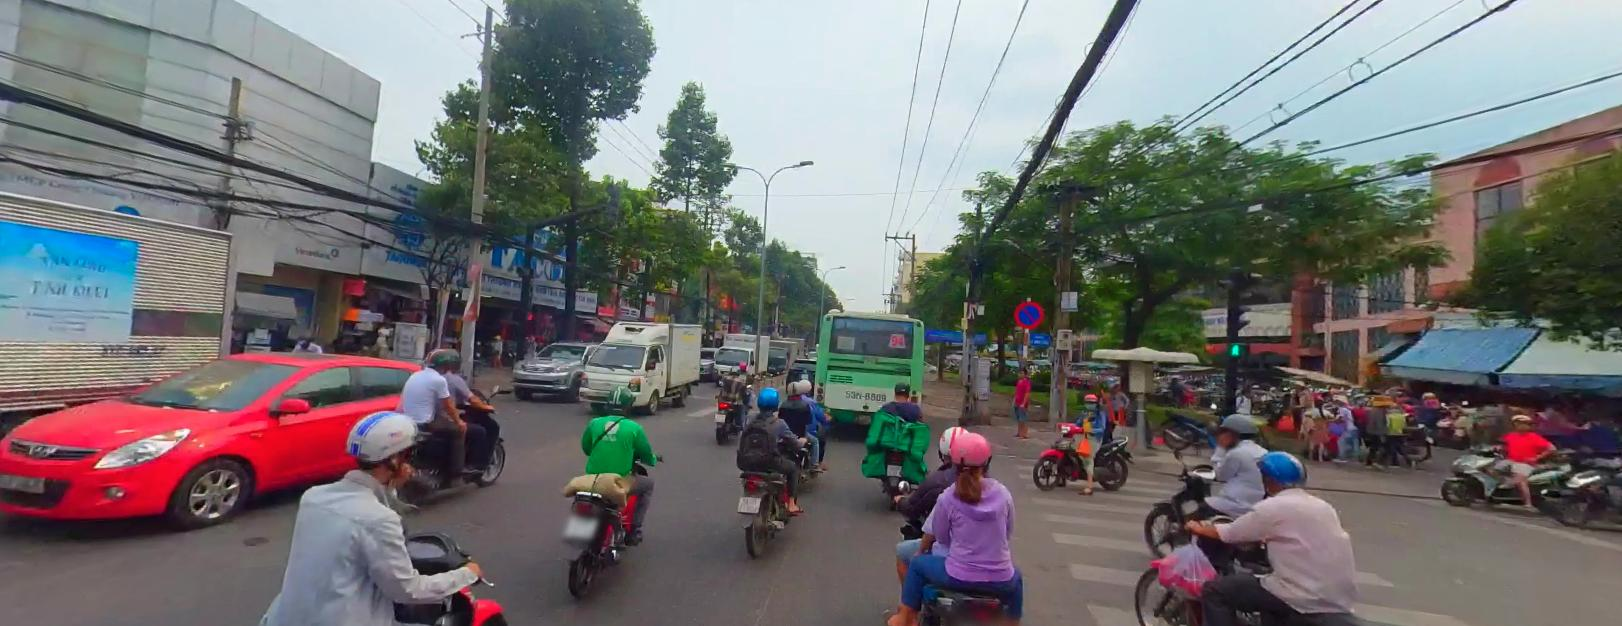Cam dung va do: (1012, 296, 1044, 331)
